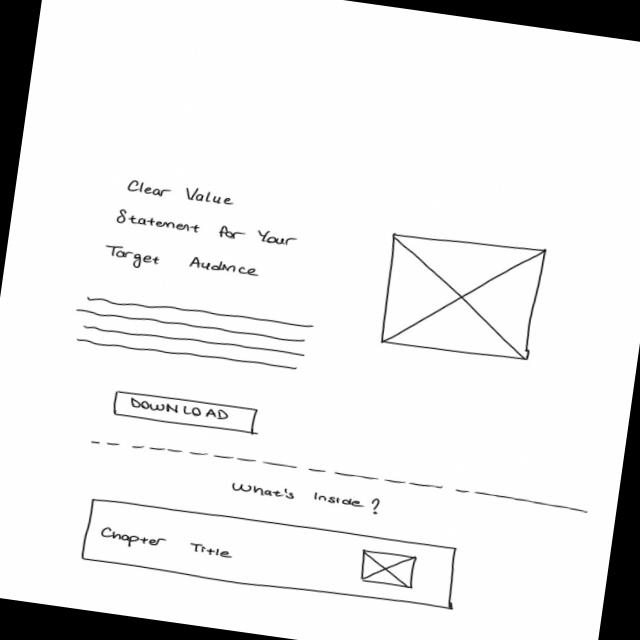button: (112, 388, 261, 439)
container: (79, 495, 463, 616)
image: (377, 227, 551, 367), (359, 549, 419, 592)
label: (114, 209, 300, 252), (231, 478, 385, 518), (126, 180, 238, 211), (100, 527, 171, 554), (187, 255, 262, 280), (105, 245, 163, 274), (190, 542, 237, 561)
text: (72, 292, 318, 378)
